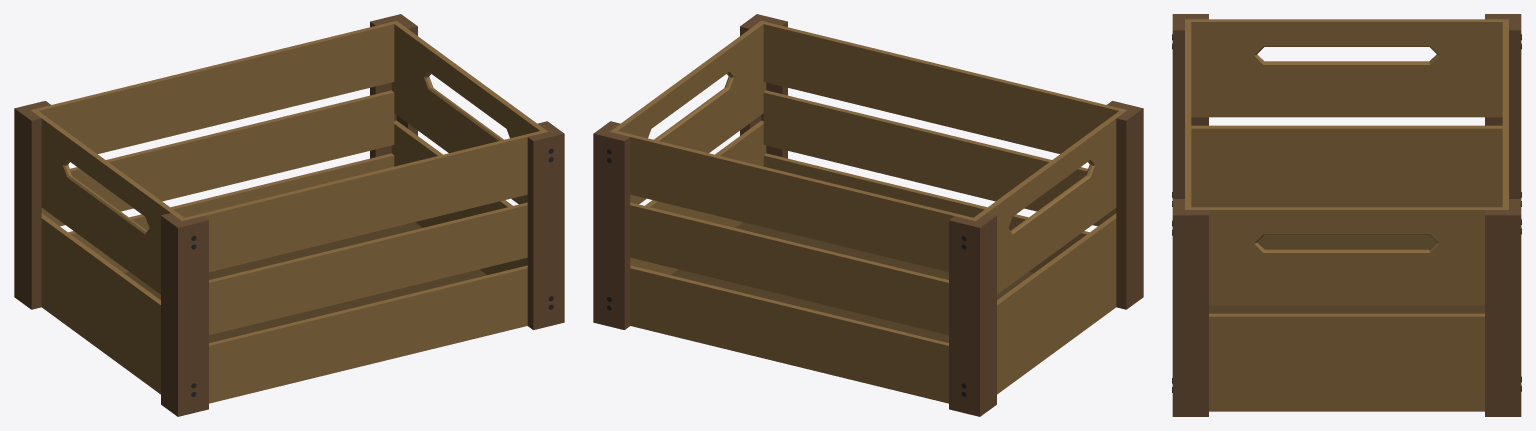
The model's file is woodenbox.fbx.
3 renders of one model, left to right at view 1: azimuth 30°, elevation 25°; view 2: azimuth 150°, elevation 25°; view 3: azimuth 270°, elevation 25°, orthographic. The views are drawn at different scales.
Parts seen in each view (by area): view 1: Cube.003; view 2: Cube.003; view 3: Cube.003.
Boxes of the visible parts, x1,y1,x2,y2 form: Cube.003: (14, 14, 564, 416); Cube.003: (593, 14, 1143, 416); Cube.003: (1172, 14, 1521, 416).
Size of the model in its own units: 38.1 by 17.8 by 27.98.
